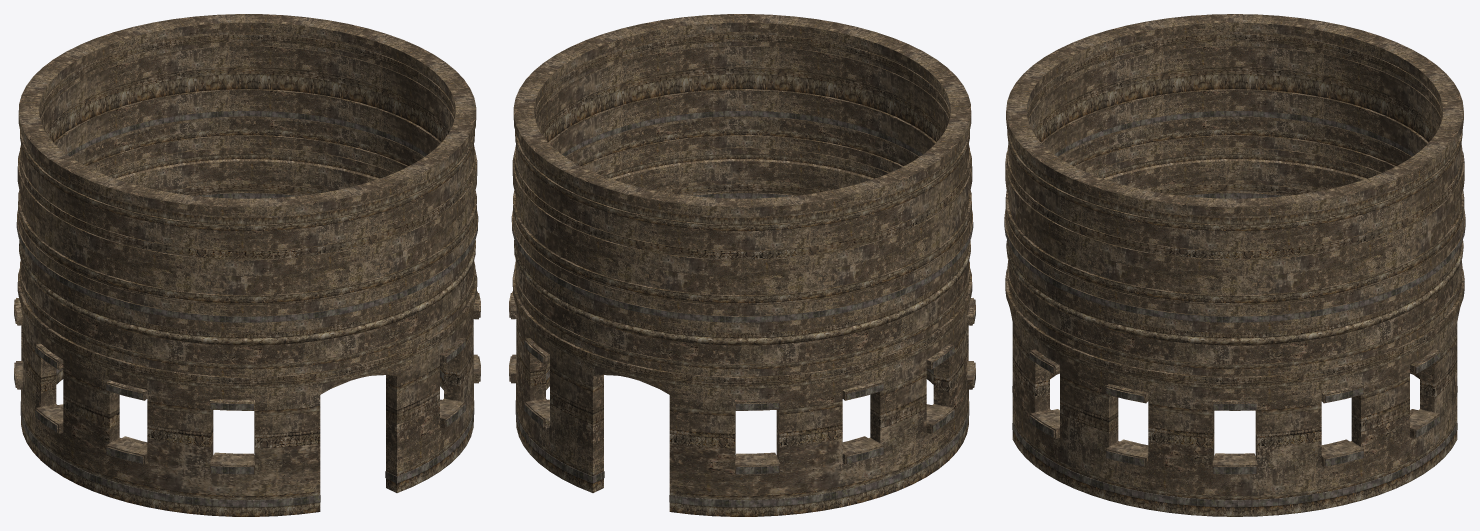
The model's file is materials_5_wall_cylinder_6.fbx.
3 views of the same model, side by side, from view 1: azimuth 30°, elevation 25°; view 2: azimuth 150°, elevation 25°; view 3: azimuth 270°, elevation 25° (orthographic).
Visible parts, largest first — view 1: materials_5_wall_cylinder_6; view 2: materials_5_wall_cylinder_6; view 3: materials_5_wall_cylinder_6.
Boxes of the visible parts, <box> form: materials_5_wall_cylinder_6: <box>14,14,480,516</box>; materials_5_wall_cylinder_6: <box>509,14,975,516</box>; materials_5_wall_cylinder_6: <box>1004,14,1465,516</box>.
Bounding box in the file's own units: 696 × 510 × 688.
